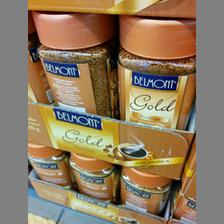Kaffee: (30, 8, 118, 116), (114, 15, 194, 132)
